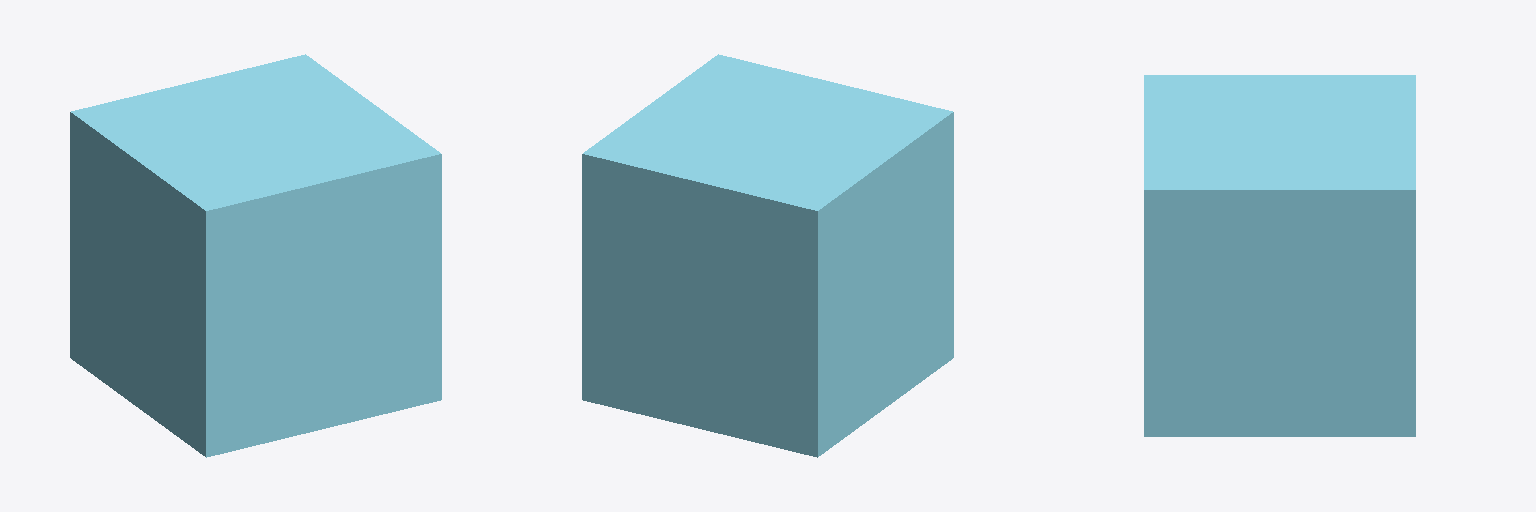
3 renders of one model, left to right at view 1: azimuth 30°, elevation 25°; view 2: azimuth 150°, elevation 25°; view 3: azimuth 270°, elevation 25°, orthographic.
Parts seen in each view (by area): view 1: Cube; view 2: Cube; view 3: Cube.
Boxes of the visible parts, x1,y1,x2,y2 form: Cube: [70, 54, 441, 457]; Cube: [582, 54, 953, 457]; Cube: [1144, 75, 1415, 436].
Bounding box in the file's own units: 0.9996 × 0.9996 × 0.9996.
Materials: 1 (1 with a texture image).